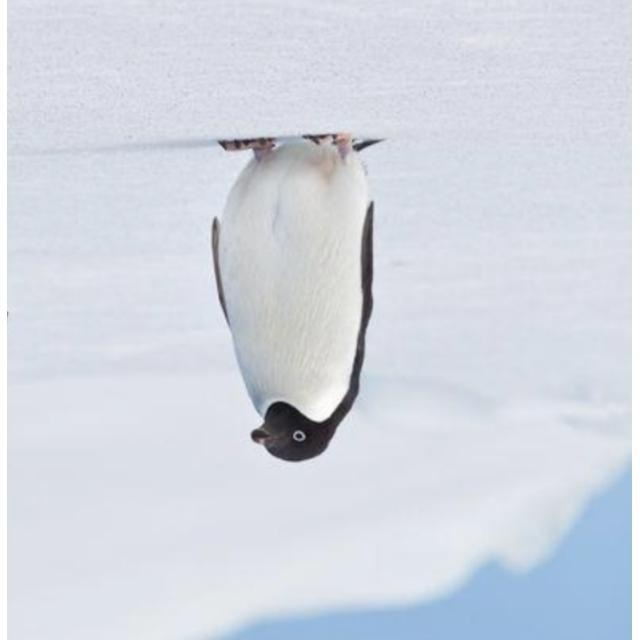penguin: (211, 133, 378, 463)
